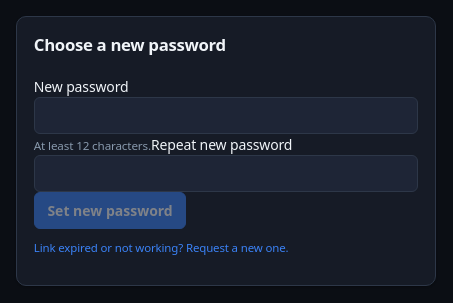
password reset session teardown › clears the local in-memory session after server-confirmed reset
The width and height of the screenshot is (453, 303).
Type "a-new-password-with-12-plus" into the password field labelled "New password At least 12 characters." at (226, 115), box [34, 97, 418, 134]
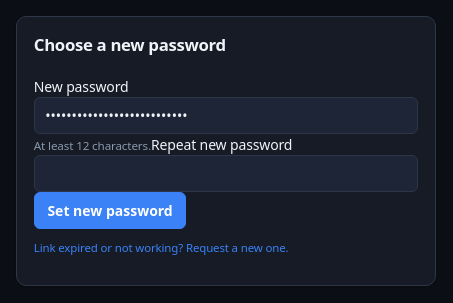
Type "a-new-password-with-12-plus" into the password field labelled "Repeat new password" at (226, 173), box [34, 155, 418, 192]
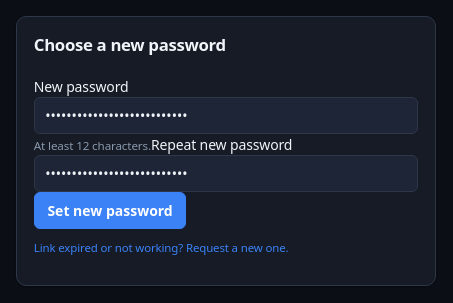
Click the button "Set new password" at (110, 210), box [34, 192, 186, 229]
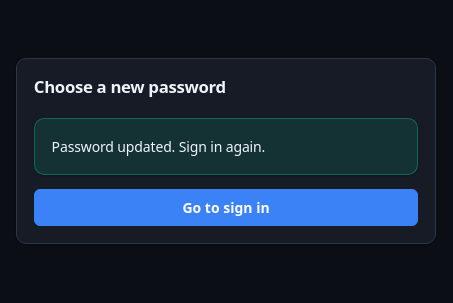
Now the text "Password updated. Sign in again." is shown, box [52, 137, 265, 156]
